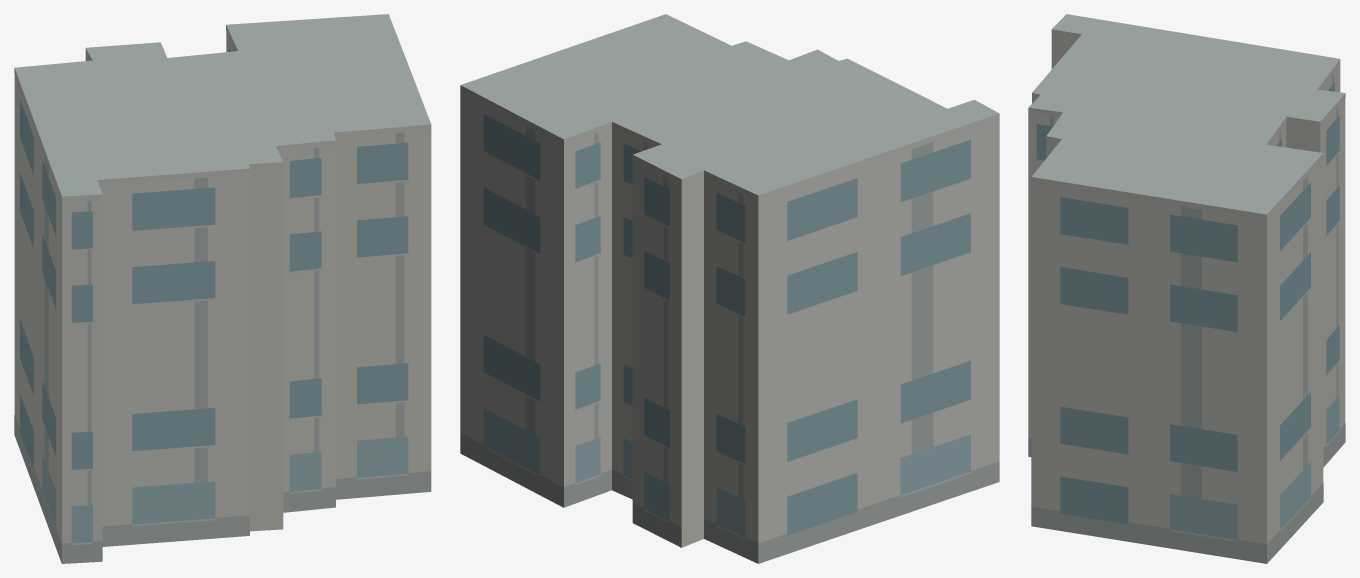
The model's file is survey-upis-32809163.glb.
3 renders of one model, left to right at view 1: azimuth 30°, elevation 25°; view 2: azimuth 150°, elevation 25°; view 3: azimuth 270°, elevation 25°, orthographic. The views are drawn at different scales.
Parts seen in each view (by area): view 1: survey-upis-32809163.tmp; view 2: survey-upis-32809163.tmp; view 3: survey-upis-32809163.tmp.
Part boxes in pixels (x1=…): survey-upis-32809163.tmp: x1=14, y1=14, x2=431, y2=563; survey-upis-32809163.tmp: x1=460, y1=14, x2=999, y2=563; survey-upis-32809163.tmp: x1=1028, y1=14, x2=1345, y2=563.
Bounding box in the file's own units: 18.79 × 15.25 × 12.55.
